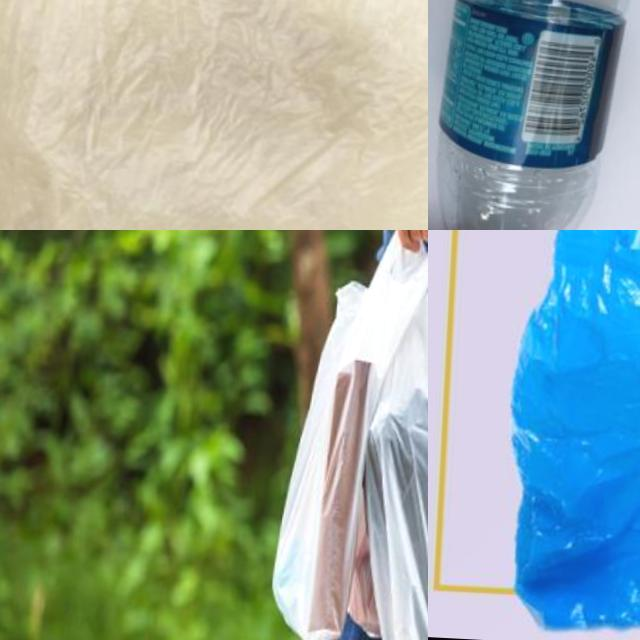garrafa plástica: (429, 0, 640, 230)
sacola plástica: (0, 0, 428, 230), (237, 230, 424, 640), (480, 230, 640, 637), (342, 230, 428, 640)
